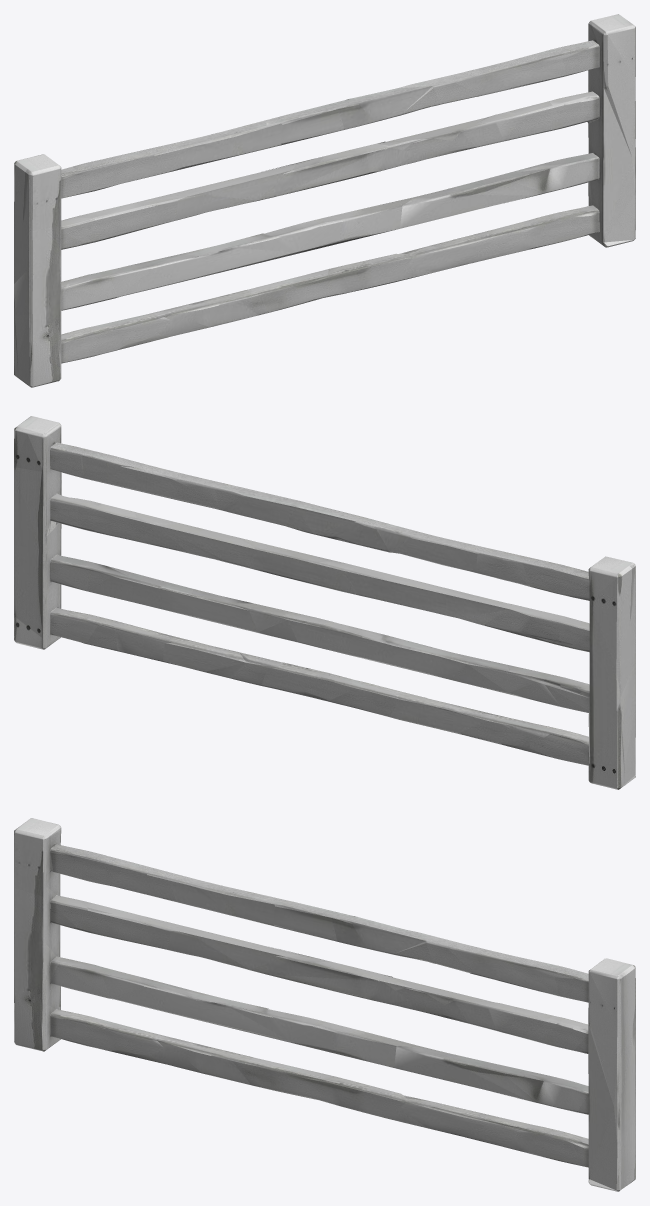
The model's file is fence.glb.
The picture shows the model from 3 angles, top to bottom: view 1: azimuth 30°, elevation 25°; view 2: azimuth 150°, elevation 25°; view 3: azimuth 330°, elevation 25°; orthographic projection.
Size of the model in its own units: 1.9 by 0.6485 by 0.098.
1 material, 1 textured.
